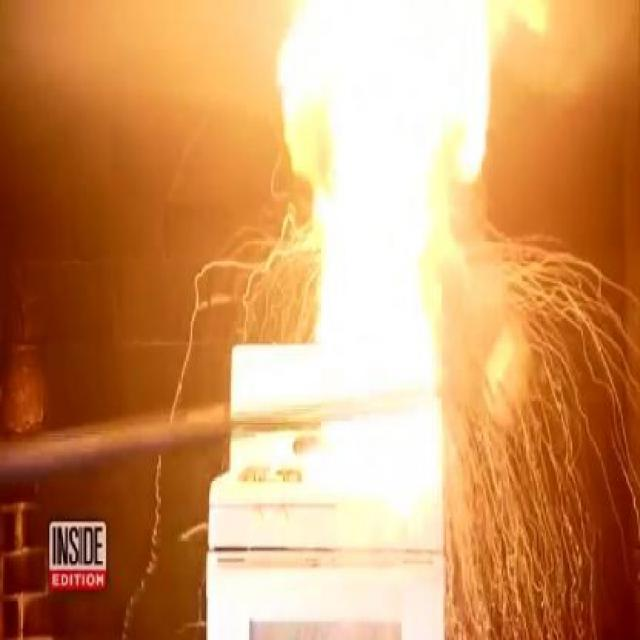fire: (272, 1, 523, 397)
